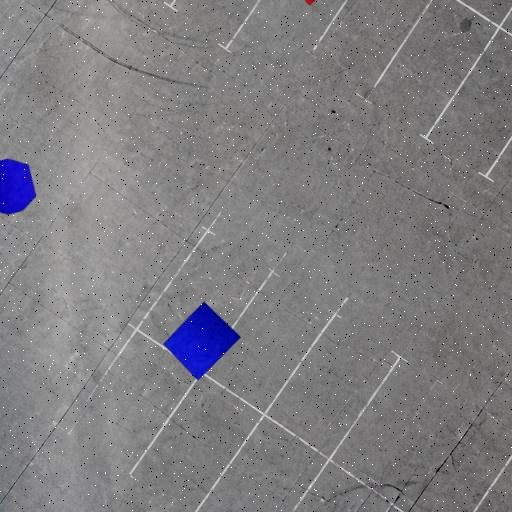BLUE_SQUARE: (162, 301, 242, 381)
